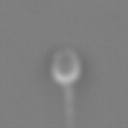normal: (52, 85, 96, 128)
